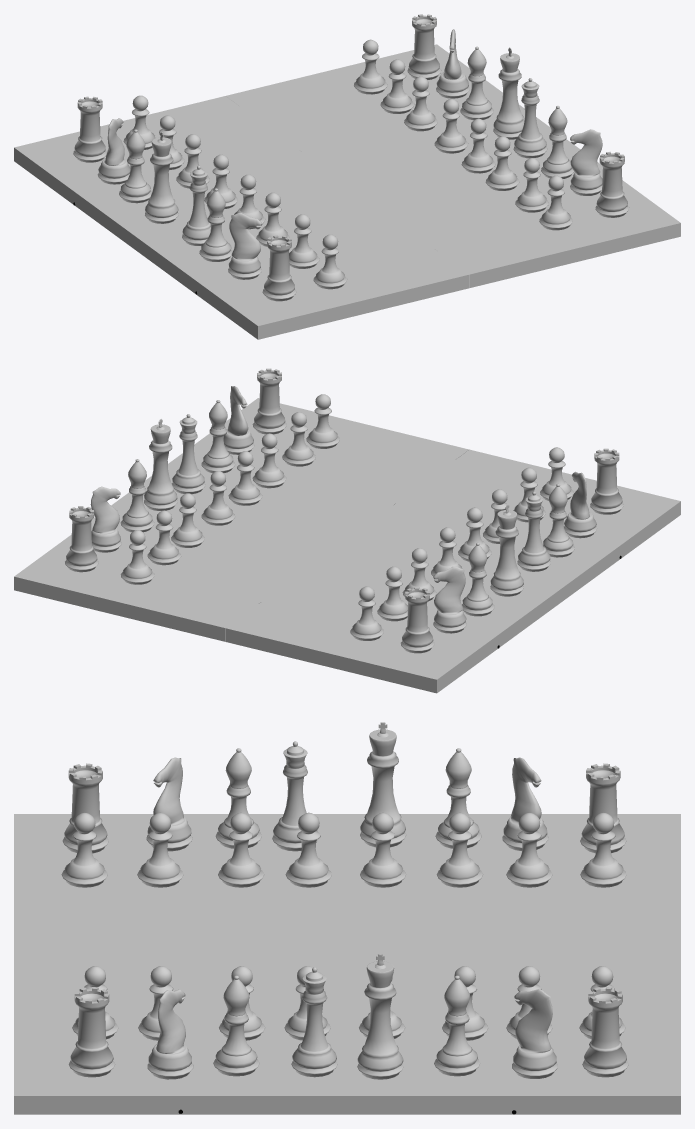
3 views of the same model, one above another, from view 1: azimuth 30°, elevation 25°; view 2: azimuth 150°, elevation 25°; view 3: azimuth 270°, elevation 25° (orthographic). The views are drawn at different scales.
Visible parts, largest first — view 1: chessbox_1, king_black_10, king_white_9, horse_white.001_27, horse_black.001_24, ladya_black.001_16, ladya_white.001_26, ladya_black_13, ladya_white_5, queen_white_8, queen_black_11, officer_black_12 (+21 smaller); view 2: chessbox_1, king_black_10, king_white_9, horse_black_14, horse_white_6, ladya_black.001_16, ladya_black_13, ladya_white_5, ladya_white.001_26, queen_black_11, queen_white_8, officer_black.001_25 (+21 smaller); view 3: chessbox_1, king_white_9, horse_white_6, ladya_white.001_26, ladya_white_5, king_black_10, queen_white_8, horse_white.001_27, officer_white.001_28, officer_white_7, ladya_black.001_16, ladya_black_13 (+20 smaller).
Part boxes in pixels (left/top/right/bottom): chessbox_1: left=14, top=44, right=680, bottom=339; king_black_10: left=145, top=131, right=178, bottom=223; king_white_9: left=493, top=47, right=524, bottom=139; horse_white.001_27: left=570, top=129, right=602, bottom=195; horse_black.001_24: left=228, top=213, right=261, bottom=279; ladya_black.001_16: left=262, top=235, right=296, bottom=301; ladya_white.001_26: left=595, top=151, right=629, bottom=217; ladya_black_13: left=73, top=96, right=106, bottom=162; ladya_white_5: left=407, top=14, right=441, bottom=79; queen_white_8: left=513, top=78, right=547, bottom=158; queen_black_11: left=182, top=165, right=210, bottom=245; officer_black_12: left=199, top=188, right=232, bottom=261; chessbox_1: left=14, top=398, right=680, bottom=693; king_black_10: left=490, top=504, right=523, bottom=596; king_white_9: left=144, top=419, right=177, bottom=510; horse_black_14: left=433, top=566, right=466, bottom=633; horse_white_6: left=90, top=486, right=121, bottom=552; ladya_black.001_16: left=590, top=448, right=623, bottom=514; ladya_black_13: left=400, top=587, right=434, bottom=653; ladya_white_5: left=65, top=506, right=98, bottom=572; ladya_white.001_26: left=252, top=368, right=286, bottom=434; queen_black_11: left=517, top=491, right=550, bottom=571; queen_white_8: left=172, top=414, right=205, bottom=494; officer_black.001_25: left=462, top=542, right=494, bottom=616; chessbox_1: left=14, top=814, right=680, bottom=1114; king_white_9: left=357, top=954, right=403, bottom=1079; horse_white_6: left=512, top=989, right=557, bottom=1078; ladya_white.001_26: left=68, top=987, right=115, bottom=1077; ladya_white_5: left=582, top=987, right=628, bottom=1077; king_black_10: left=360, top=722, right=406, bottom=847; queen_white_8: left=291, top=967, right=337, bottom=1077; horse_white.001_27: left=147, top=989, right=193, bottom=1079; officer_white.001_28: left=434, top=975, right=480, bottom=1076; officer_white_7: left=213, top=975, right=259, bottom=1076; ladya_black.001_16: left=62, top=763, right=108, bottom=853; ladya_black_13: left=580, top=763, right=626, bottom=853.
Size of the model in its own units: 25.35 by 5.92 by 25.24.
